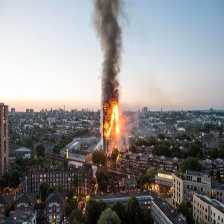fire: (101, 102, 121, 138)
smoke: (88, 1, 127, 101)
